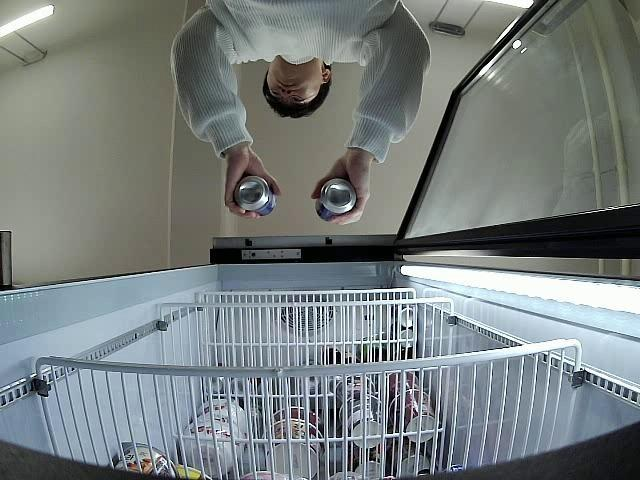14_welchsGrape: (316, 176, 356, 223), (233, 175, 276, 218)
